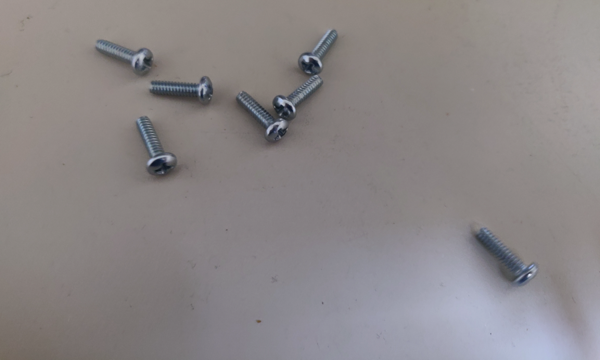shortscrew: (475, 227, 539, 289), (236, 91, 289, 143), (136, 117, 177, 176), (273, 75, 324, 121), (95, 39, 154, 75), (150, 76, 213, 106), (299, 29, 339, 75)
